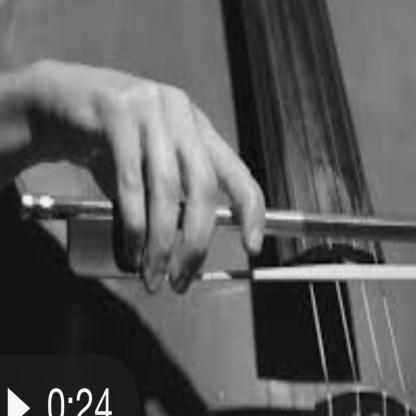bad: (95, 64, 273, 304)
